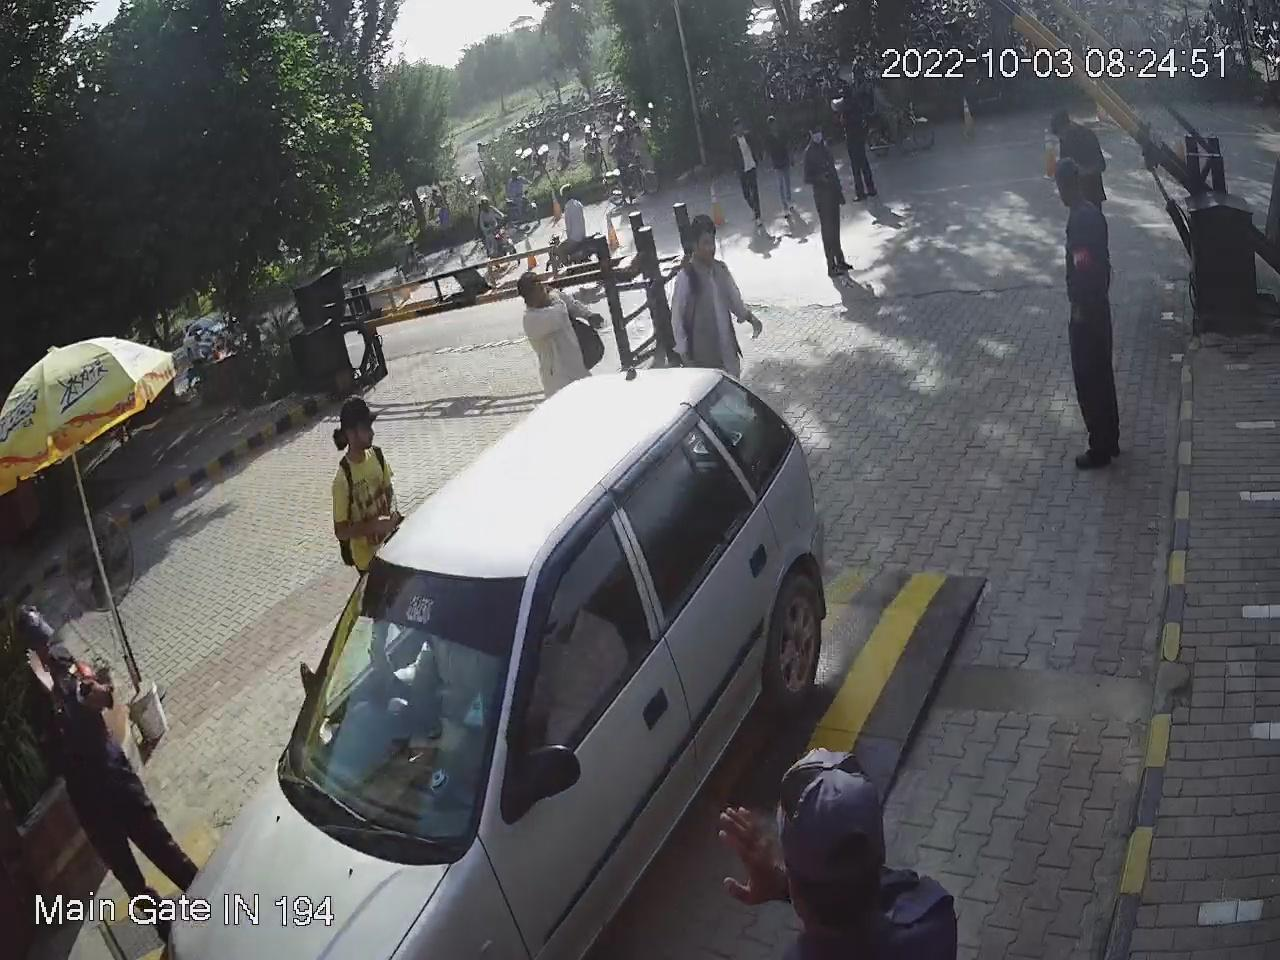windshield: (273, 563, 523, 855)
